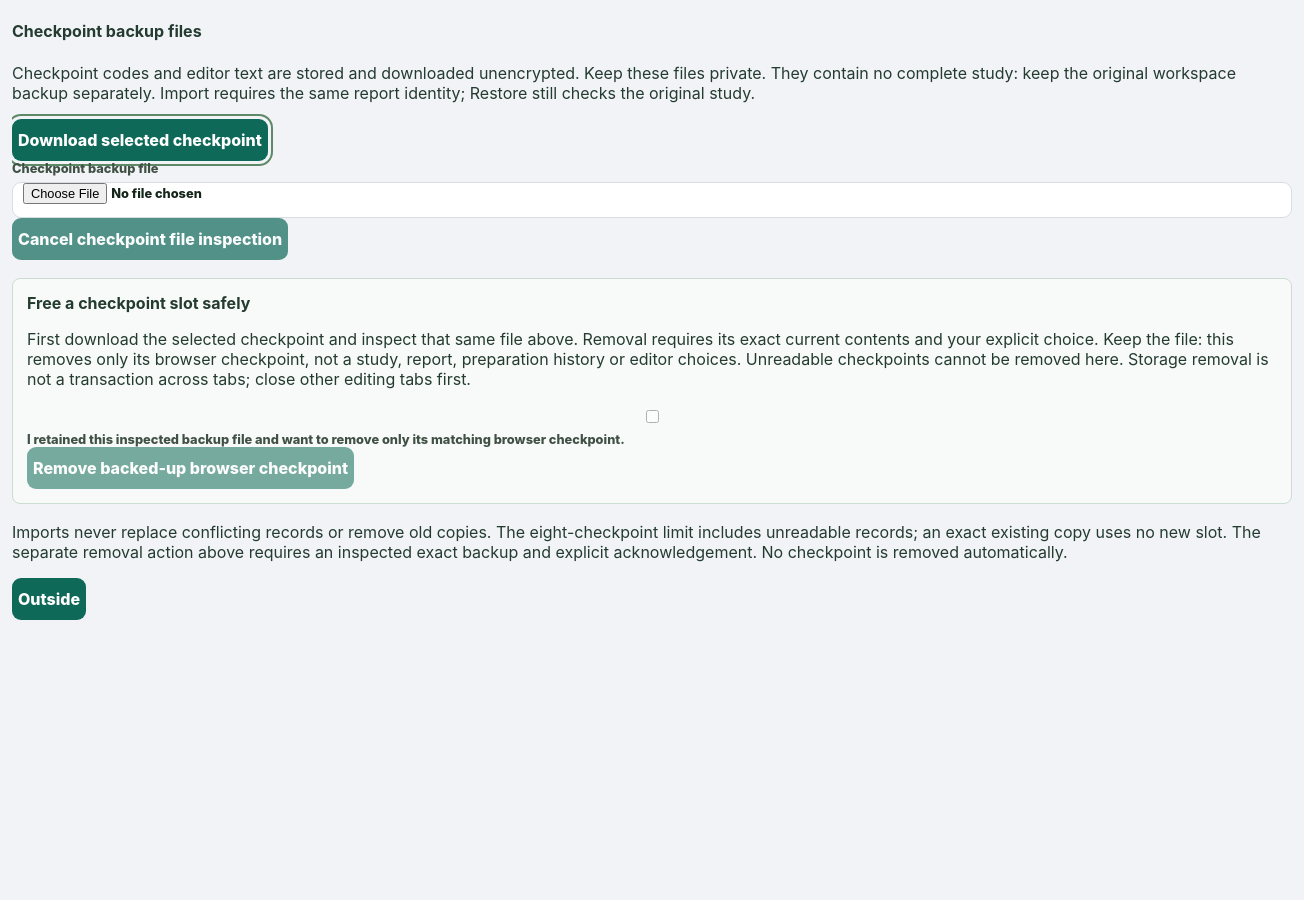
Test: requests an unencrypted exact backup download while preserving stored data and focus
Click the button "Download selected checkpoint". click: (140, 140)
box: x1=12 y1=118 x2=268 y2=160
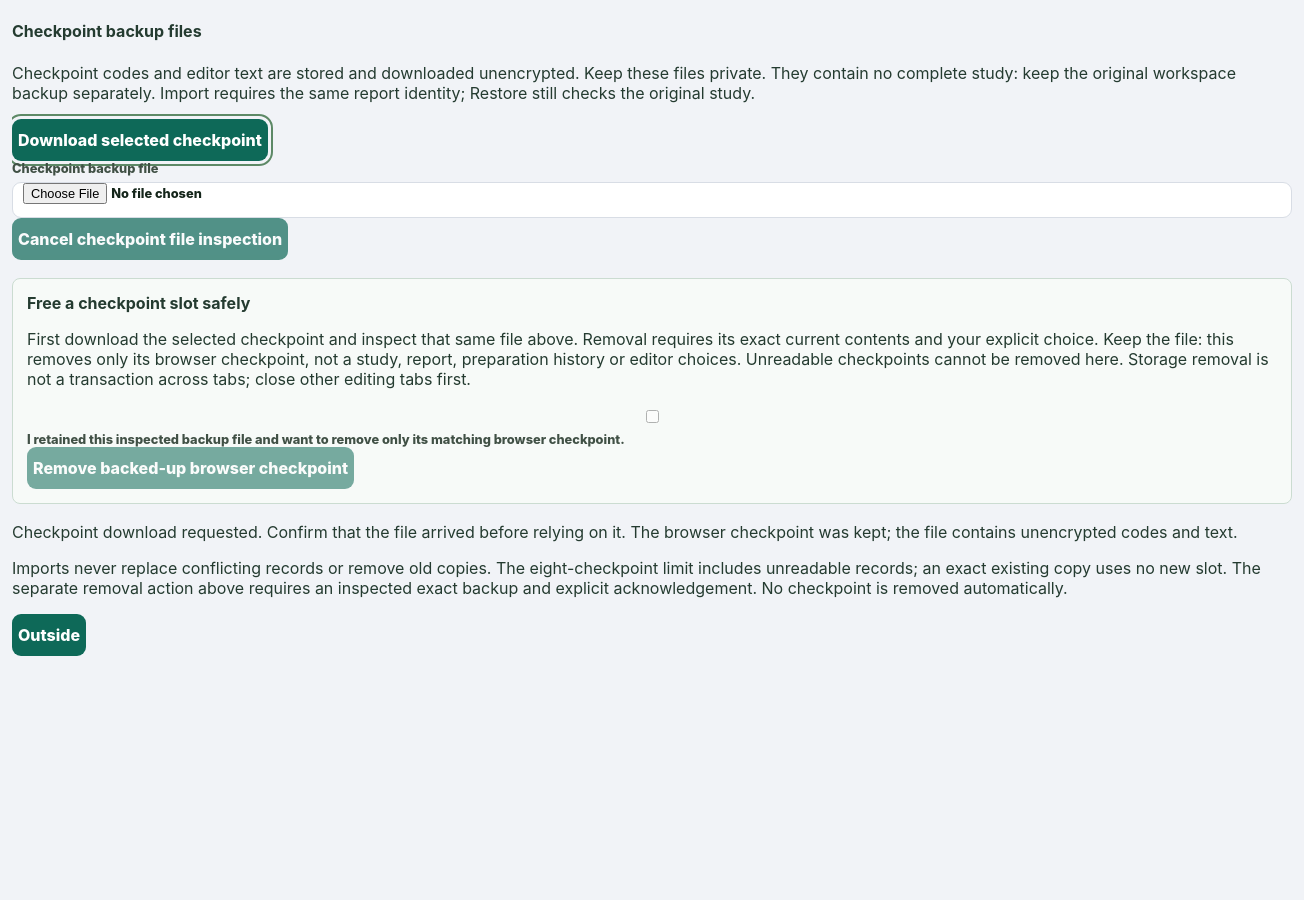
Expected: the text "unencrypted" is shown, x1=12 y1=62 x2=1236 y2=102
Result: the text "download requested" is shown at x1=12 y1=522 x2=1238 y2=542
